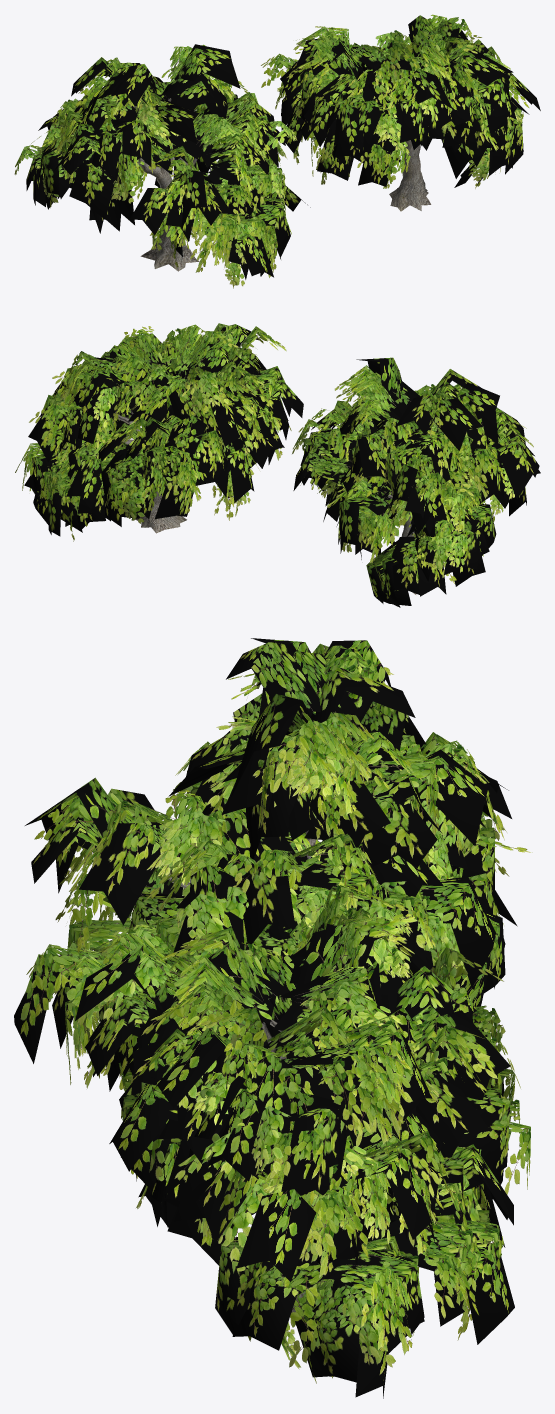
Rendered from linden.obj.
3 views of the same model, one above another, from view 1: azimuth 30°, elevation 25°; view 2: azimuth 150°, elevation 25°; view 3: azimuth 270°, elevation 25° (orthographic). The views are drawn at different scales.
Visible parts, largest first — view 1: linden_1, linden_2; view 2: linden_2, linden_1; view 3: linden_2, linden_1.
Boxes of the visible parts, x1,y1,x2,y2 form: linden_1: (14,44,310,288); linden_2: (261,14,540,211); linden_2: (15,323,303,541); linden_1: (292,357,540,607); linden_2: (75,884,530,1398); linden_1: (14,638,532,1091).
Bounding box in the file's own units: 28.23 × 12.49 × 14.02.
7 materials, 7 textured.
